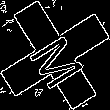M_NE: (21, 22, 89, 88)
